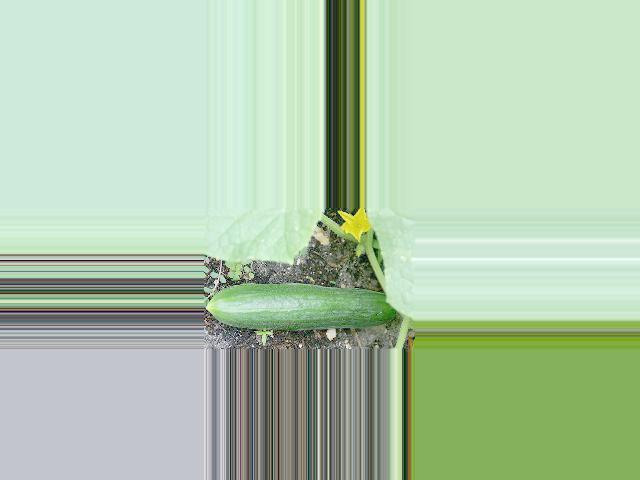cucumber: (205, 283, 396, 330)
